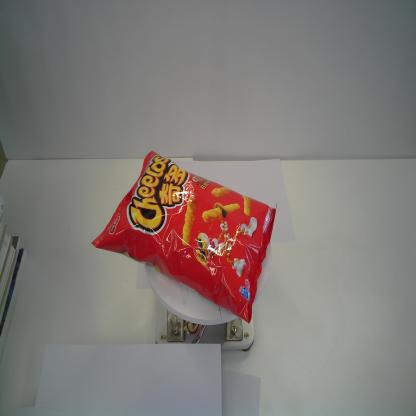Puffed Food: (89, 150, 278, 324)
